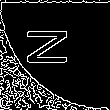N_E: (30, 35, 80, 75)
